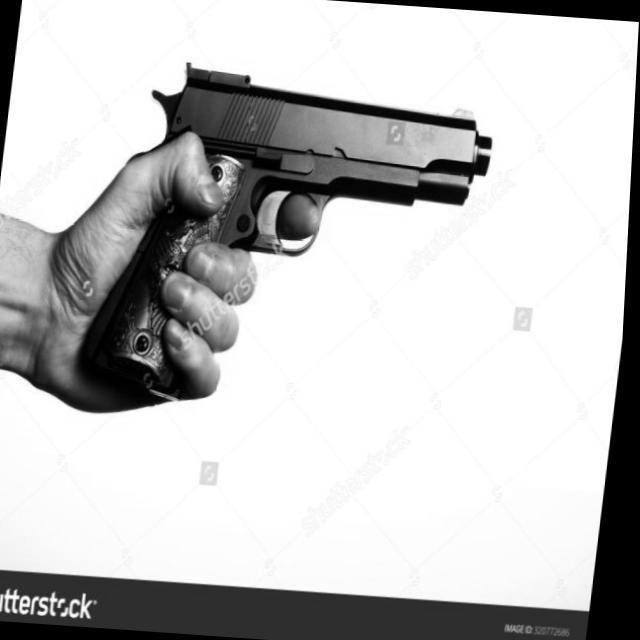weapon: (80, 56, 502, 422)
